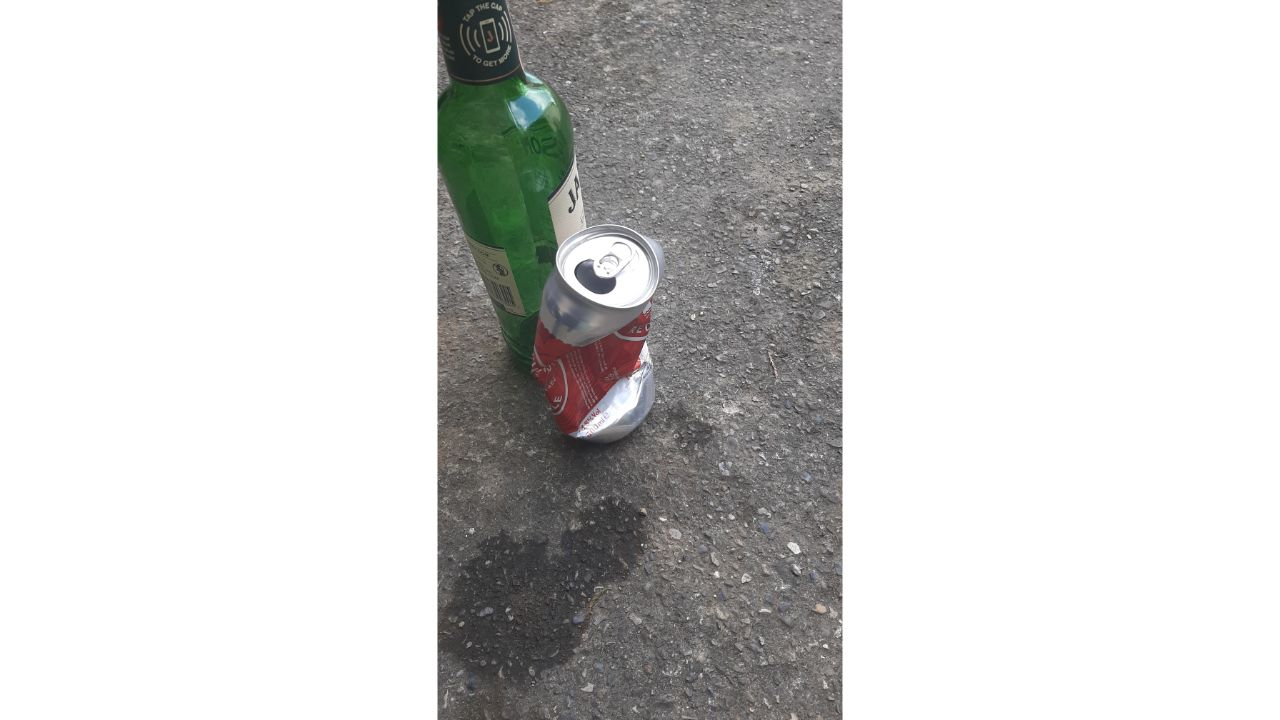Can: (521, 212, 675, 458)
